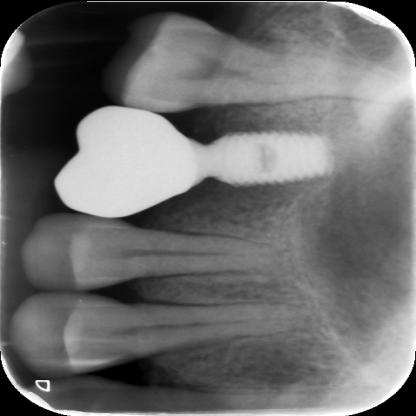Bicon: (194, 116, 336, 186)
